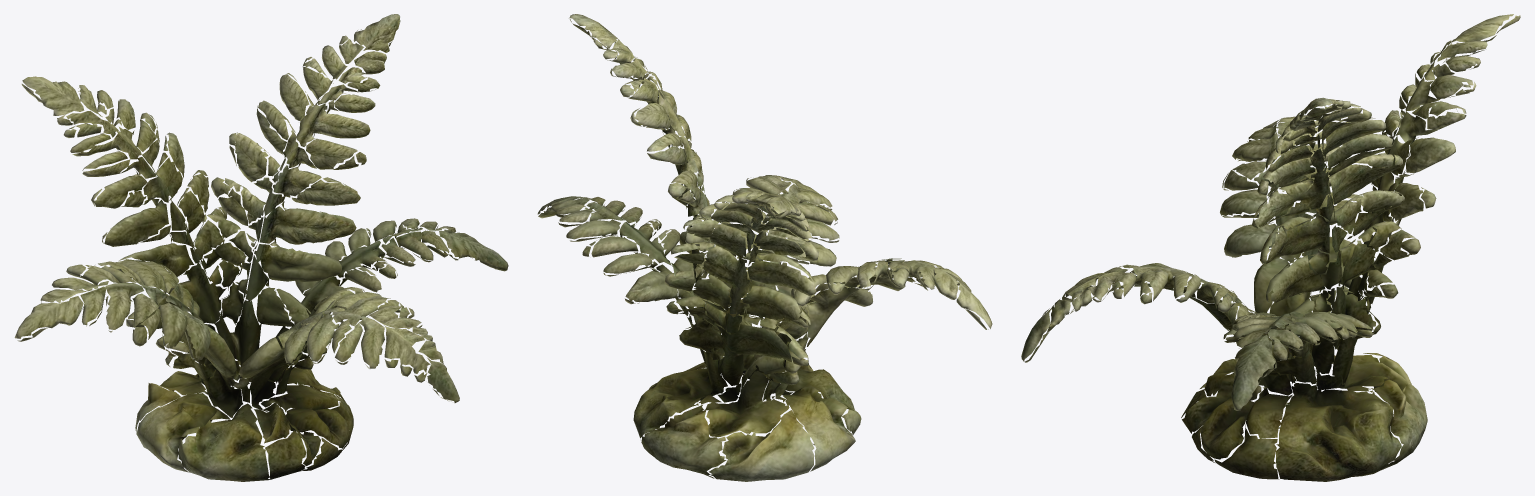
File: fern-plant-game.glb
3 views of the same model, side by side, from view 1: azimuth 30°, elevation 25°; view 2: azimuth 150°, elevation 25°; view 3: azimuth 270°, elevation 25° (orthographic). The views are drawn at different scales.
Visible parts, largest first — view 1: tripo_node_15ab8471-5859-4bdd-9387-7b0427026d1c; view 2: tripo_node_15ab8471-5859-4bdd-9387-7b0427026d1c; view 3: tripo_node_15ab8471-5859-4bdd-9387-7b0427026d1c.
Boxes of the visible parts, x1,y1,x2,y2 form: tripo_node_15ab8471-5859-4bdd-9387-7b0427026d1c: (14,14,508,481); tripo_node_15ab8471-5859-4bdd-9387-7b0427026d1c: (537,14,992,481); tripo_node_15ab8471-5859-4bdd-9387-7b0427026d1c: (1021,14,1520,481).
Size of the model in its own units: 0.9779 by 0.7713 by 0.8166.
Materials: 1 (1 with a texture image).
